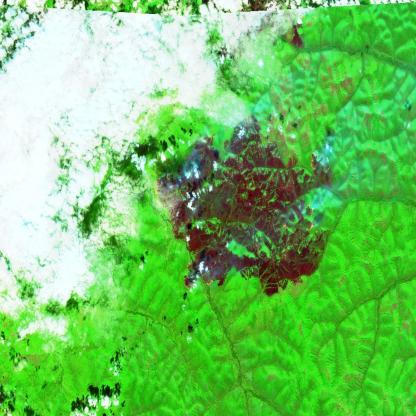fire: (278, 198, 317, 238), (181, 256, 211, 296), (152, 169, 176, 198)
